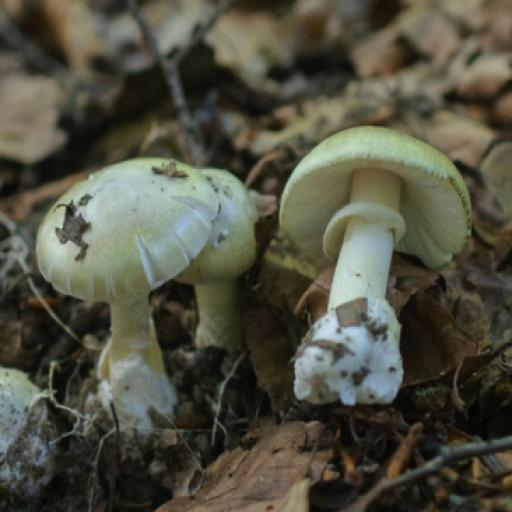mushroom: (25, 126, 317, 440), (276, 117, 484, 406)
